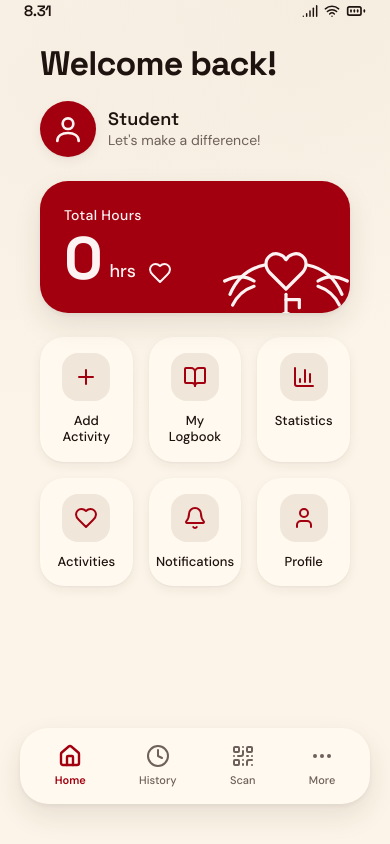
App navigation wiring › navigates from the More screen into its sub-destinations
(page scrolled)
What coordinates should you click on to do the following:
click the button "More"
I would click on:
 (322, 766)
Its box is [297,740,347,792].
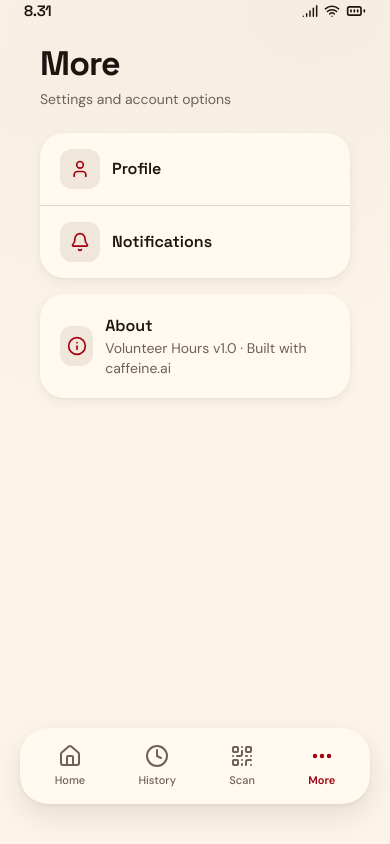
What coordinates should you click on to do the following:
click the button "Profile"
I would click on:
 (80, 169)
Its box is [40,133,350,206].
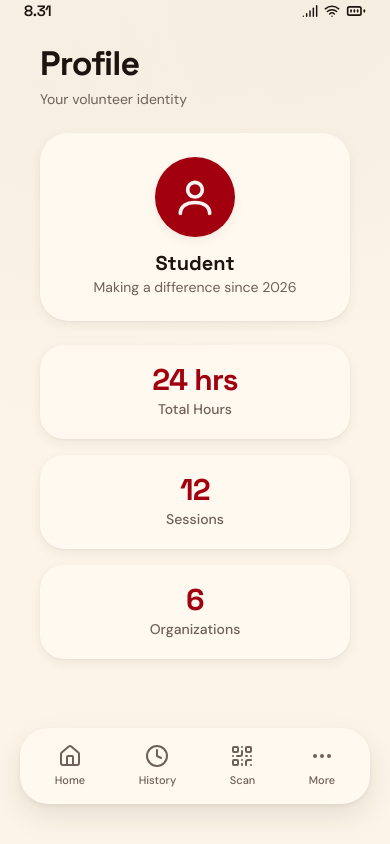
Check: the heading "Profile" is shown, box [40,42,139,84]
What coordinates should you click on to do the following:
click the button "More"
I would click on:
 (322, 766)
Its box is [297,740,347,792].
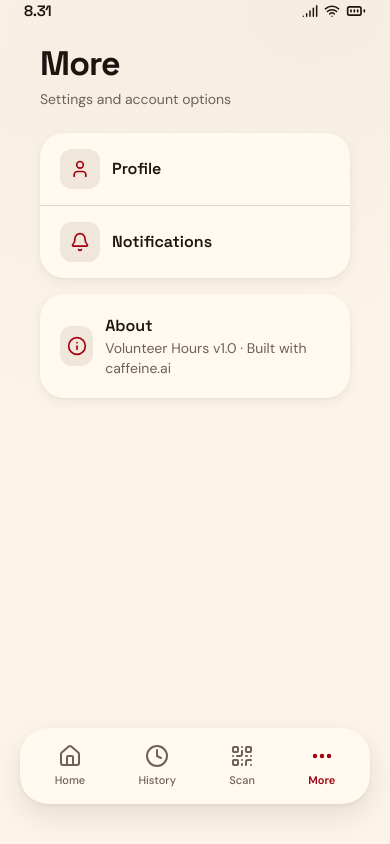
What coordinates should you click on to do the following:
click the button "Notifications"
I would click on:
 (195, 242)
Its box is [40,206,350,278].
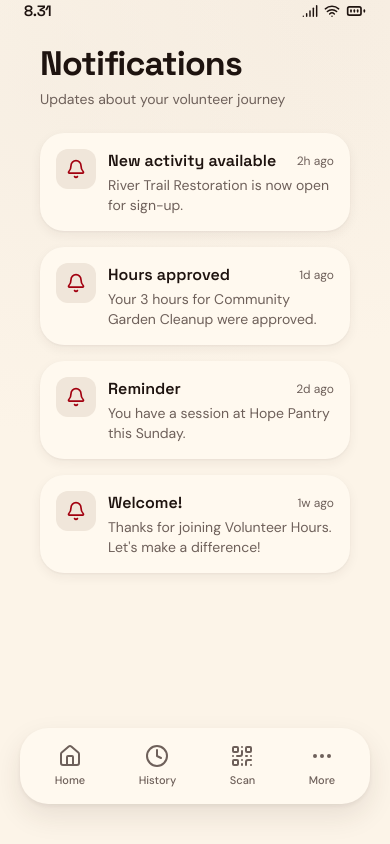
Check: the heading "Notifications" is shown, box [40,42,242,84]
